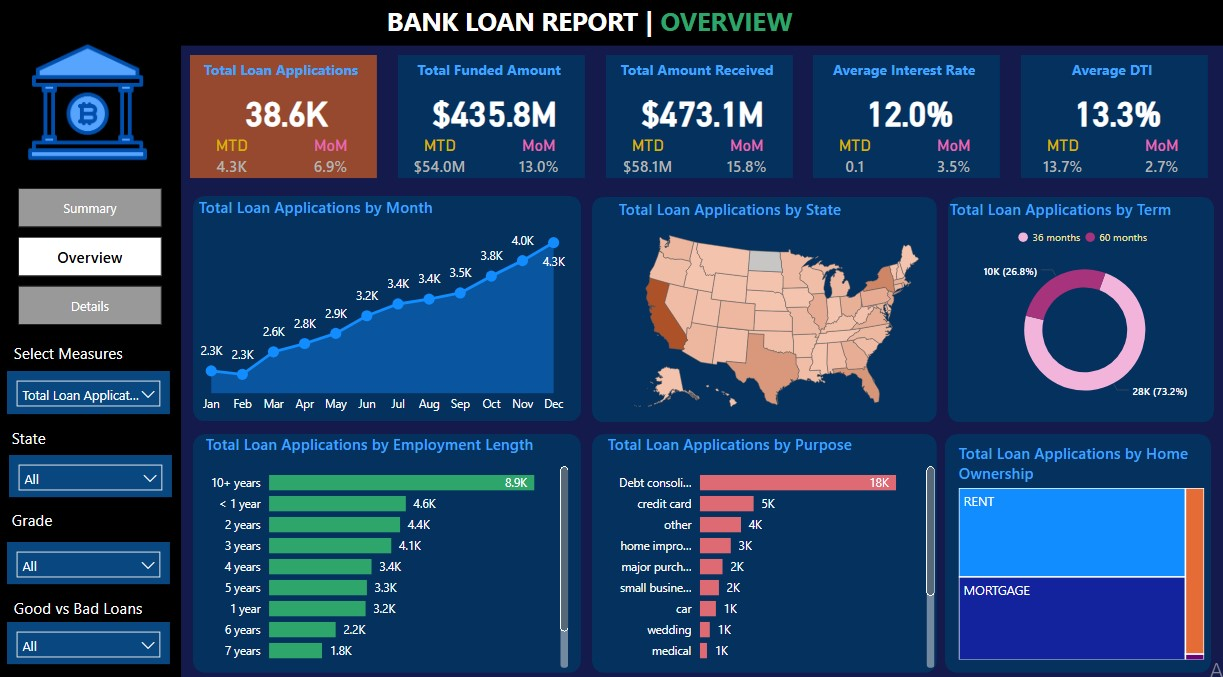

The dashboard page shown, as its layout file describes it:
{"tool":"powerbi","page":{"name":"Overview","canvas":[1280,720],"ordinal":1},"visuals":[{"type":"shape","box":[0,0,1280,55],"z":0},{"type":"shape","box":[200.5,64.3,195.3,128.5],"z":0,"group":"g1"},{"type":"shape","box":[417.2,64.3,195.3,128.5],"z":0,"group":"g2"},{"type":"shape","box":[634,64.3,195.3,128.5],"z":0,"group":"g3"},{"type":"shape","box":[850.7,64.3,195.3,128.5],"z":0,"group":"g4"},{"type":"shape","box":[1067.5,64.7,195.3,128.5],"z":0,"group":"g5"},{"type":"shape","box":[0,45,191.5,674.7],"z":1000},{"type":"textbox","box":[401,5.1,458.8,50.1],"z":2000},{"type":"group","id":"g1","title":"Group 1","box":[200.5,64.3,195.3,128.5],"z":3000},{"type":"group","id":"g2","title":"Group 1","box":[417.2,64.3,195.3,128.5],"z":4000},{"type":"card","fields":{"Values":["Bank_loan.Total Loan Applications"]},"box":[209.5,96.4,182.5,52.7],"z":4000,"group":"g1"},{"type":"card","fields":{"Values":["Bank_loan.Total Funded Amount"]},"box":[426.2,96.4,182.5,52.7],"z":4000,"group":"g2"},{"type":"card","fields":{"Values":["Bank_loan.Total Amount Received"]},"box":[643,96.4,182.5,52.7],"z":4000,"group":"g3"},{"type":"card","fields":{"Values":["Bank_loan.Average Interest Rate"]},"box":[859.7,96.4,182.5,52.7],"z":4000,"group":"g4"},{"type":"card","fields":{"Values":["Bank_loan.Average DTI"]},"box":[1076.5,96.8,182.5,52.7],"z":4000,"group":"g5"},{"type":"textbox","box":[200.5,64.3,190.2,32.1],"z":5000,"group":"g1"},{"type":"textbox","box":[417.2,64.3,190.2,32.1],"z":5000,"group":"g2"},{"type":"textbox","box":[634,64.3,190.2,32.1],"z":5000,"group":"g3"},{"type":"textbox","box":[850.7,64.3,190.2,32.1],"z":5000,"group":"g4"},{"type":"textbox","box":[1067.5,64.7,190.2,32.1],"z":5000,"group":"g5"},{"type":"shape","box":[203.4,212.2,405,235],"z":5000},{"type":"group","id":"g3","title":"Group 1","box":[634,64.3,195.3,128.5],"z":6000},{"type":"card","title":"MTD","fields":{"Values":["Bank_loan.MTD Loan Applications"]},"box":[209.5,149.1,68.1,43.7],"z":6000,"group":"g1"},{"type":"card","title":"MTD","fields":{"Values":["Bank_loan.MTD Funded Amount"]},"box":[426.2,149.1,68.1,43.7],"z":6000,"group":"g2"},{"type":"card","title":"MTD","fields":{"Values":["Bank_loan.MTD Amount Received"]},"box":[643,149.1,68.1,43.7],"z":6000,"group":"g3"},{"type":"card","title":"MTD","fields":{"Values":["Bank_loan.MTD Avg Int Rate"]},"box":[859.7,149.1,68.1,43.7],"z":6000,"group":"g4"},{"type":"card","title":"MTD","fields":{"Values":["Bank_loan.MTD Avg DTI"]},"box":[1076.5,149.5,68.1,43.7],"z":6000,"group":"g5"},{"type":"group","id":"g4","title":"Group 1","box":[850.7,64.3,195.3,128.5],"z":7000},{"type":"card","title":"MoM","fields":{"Values":["Bank_loan.MoM Loan Application"]},"box":[313.6,149.1,68.1,43.7],"z":7000,"group":"g1"},{"type":"card","title":"MoM","fields":{"Values":["Bank_loan.MoM Funded Amount"]},"box":[530.3,149.1,68.1,43.7],"z":7000,"group":"g2"},{"type":"card","title":"MoM","fields":{"Values":["Bank_loan.MoM Amount Received"]},"box":[747.1,149.1,68.1,43.7],"z":7000,"group":"g3"},{"type":"card","title":"MoM","fields":{"Values":["Bank_loan.MoM Avg Int Rate"]},"box":[963.8,149.1,68.1,43.7],"z":7000,"group":"g4"},{"type":"card","title":"MoM","fields":{"Values":["Bank_loan.MoM Avg DTI"]},"box":[1180.6,149.5,68.1,43.7],"z":7000,"group":"g5"},{"type":"group","id":"g5","title":"Group 1","box":[1067.5,64.7,195.1,128.3],"z":8000},{"type":"slicer","fields":{"Values":["Bank_loan.address_state"]},"box":[11.6,481.9,169.6,43.7],"z":9000},{"type":"slicer","fields":{"Values":["Bank_loan.grade"]},"box":[9,573.2,169.6,43.7],"z":10000},{"type":"slicer","fields":{"Values":["Bank_loan.Good vs Bad Loans"]},"box":[9,656.7,169.6,43.7],"z":11000},{"type":"textbox","box":[9,534.6,152.9,38.6],"z":12000},{"type":"textbox","box":[9,448.5,84.8,37.3],"z":13000},{"type":"textbox","box":[11.6,625.9,152.9,41.1],"z":14000},{"type":"slicer","fields":{"Values":["Selected Measures.Selected Measures"]},"box":[9,394.5,169.6,45],"z":15000},{"type":"textbox","box":[11.6,359.8,152.9,41.1],"z":16000},{"type":"areaChart","fields":{"Y":["Bank_loan.Total Loan Applications"],"Category":["Date Table.Month"]},"box":[204.3,213.3,393.3,233.9],"z":17000},{"type":"shape","box":[619.7,213.3,359.8,235.2],"z":18000},{"type":"shapeMap","fields":{"Value":["Bank_loan.Total Loan Applications"],"Category":["Bank_loan.address_state"]},"box":[642.6,214.6,339.3,233.9],"z":19000},{"type":"shape","box":[990.8,213.3,277.6,235.2],"z":20000},{"type":"donutChart","fields":{"Y":["Bank_loan.Total Loan Applications"],"Category":["Bank_loan.term"]},"box":[988.3,214.6,291.7,224.9],"z":21000},{"type":"shape","box":[203.1,460.1,404.8,249.3],"z":22000},{"type":"barChart","fields":{"Y":["Bank_loan.Total Loan Applications"],"Category":["Bank_loan.emp_length"]},"box":[212,460.1,388.1,249.3],"z":23000},{"type":"shape","box":[619.4,460.1,359.8,249.3],"z":24000},{"type":"barChart","fields":{"Y":["Bank_loan.Total Loan Applications"],"Category":["Bank_loan.purpose"]},"box":[631,460.1,350.8,249.3],"z":25000},{"type":"shape","box":[988.3,460.1,277.6,249.3],"z":26000},{"type":"treemap","fields":{"Values":["Bank_loan.Total Loan Applications"],"Group":["Bank_loan.home_ownership"]},"box":[997.3,469.1,266,231.3],"z":27000},{"type":"pageNavigator","box":[20.6,203.1,150.4,145.2],"z":27001},{"type":"image","box":[11.6,45,164.5,137.5],"z":27002}]}

Visuals, with their boxes in screenshot pixels (x1, y1, x2, y2), scaled from the page's 1280x720 canvas onto the 1223x677 screenshot:
shape: <box>0,0,1222,52</box>
shape: <box>192,60,378,181</box>
shape: <box>399,60,585,181</box>
shape: <box>606,60,792,181</box>
shape: <box>813,60,999,181</box>
shape: <box>1020,61,1207,182</box>
shape: <box>0,42,183,676</box>
textbox: <box>383,5,822,52</box>
"Group 1" group: <box>192,60,378,181</box>
"Group 1" group: <box>399,60,585,181</box>
card - Bank_loan.Total Loan Applications: <box>200,91,375,140</box>
card - Bank_loan.Total Funded Amount: <box>407,91,582,140</box>
card - Bank_loan.Total Amount Received: <box>614,91,789,140</box>
card - Bank_loan.Average Interest Rate: <box>821,91,996,140</box>
card - Bank_loan.Average DTI: <box>1029,91,1203,141</box>
textbox: <box>192,60,373,91</box>
textbox: <box>399,60,580,91</box>
textbox: <box>606,60,787,91</box>
textbox: <box>813,60,995,91</box>
textbox: <box>1020,61,1202,91</box>
shape: <box>194,200,581,420</box>
"Group 1" group: <box>606,60,792,181</box>
"MTD" card: <box>200,140,265,181</box>
"MTD" card: <box>407,140,472,181</box>
"MTD" card: <box>614,140,679,181</box>
"MTD" card: <box>821,140,886,181</box>
"MTD" card: <box>1029,141,1094,182</box>
"Group 1" group: <box>813,60,999,181</box>
"MoM" card: <box>300,140,365,181</box>
"MoM" card: <box>507,140,572,181</box>
"MoM" card: <box>714,140,779,181</box>
"MoM" card: <box>921,140,986,181</box>
"MoM" card: <box>1128,141,1193,182</box>
"Group 1" group: <box>1020,61,1206,181</box>
slicer - Bank_loan.address_state: <box>11,453,173,494</box>
slicer - Bank_loan.grade: <box>9,539,171,580</box>
slicer - Bank_loan.Good vs Bad Loans: <box>9,617,171,659</box>
textbox: <box>9,503,155,539</box>
textbox: <box>9,422,90,457</box>
textbox: <box>11,589,157,627</box>
slicer - Selected Measures.Selected Measures: <box>9,371,171,413</box>
textbox: <box>11,338,157,377</box>
areaChart - Bank_loan.Total Loan Applications x Date Table.Month: <box>195,201,571,420</box>
shape: <box>592,201,936,422</box>
shapeMap - Bank_loan.Total Loan Applications x Bank_loan.address_state: <box>614,202,938,422</box>
shape: <box>947,201,1212,422</box>
donutChart - Bank_loan.Total Loan Applications x Bank_loan.term: <box>944,202,1222,413</box>
shape: <box>194,433,581,667</box>
barChart - Bank_loan.Total Loan Applications x Bank_loan.emp_length: <box>203,433,573,667</box>
shape: <box>592,433,936,667</box>
barChart - Bank_loan.Total Loan Applications x Bank_loan.purpose: <box>603,433,938,667</box>
shape: <box>944,433,1210,667</box>
treemap - Bank_loan.Total Loan Applications x Bank_loan.home_ownership: <box>953,441,1207,659</box>
pageNavigator: <box>20,191,163,327</box>
image: <box>11,42,168,172</box>
